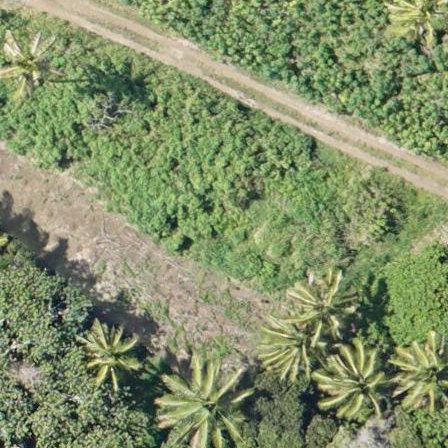palm_tree: (154, 361, 252, 445), (282, 263, 361, 347), (318, 341, 392, 420), (1, 28, 62, 93), (396, 336, 448, 411), (262, 320, 322, 377), (82, 324, 139, 379), (390, 1, 448, 48)
